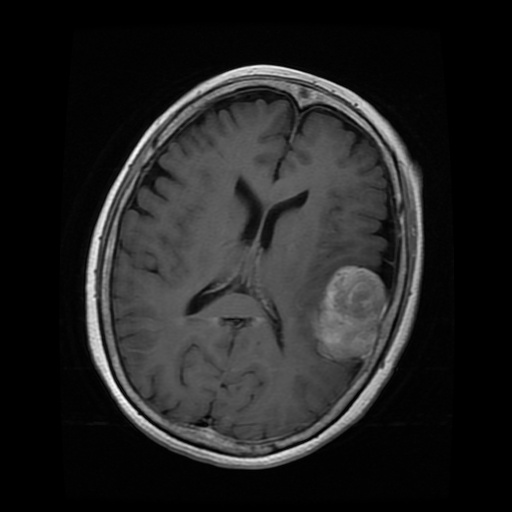meningioma: (316, 265, 384, 358)
